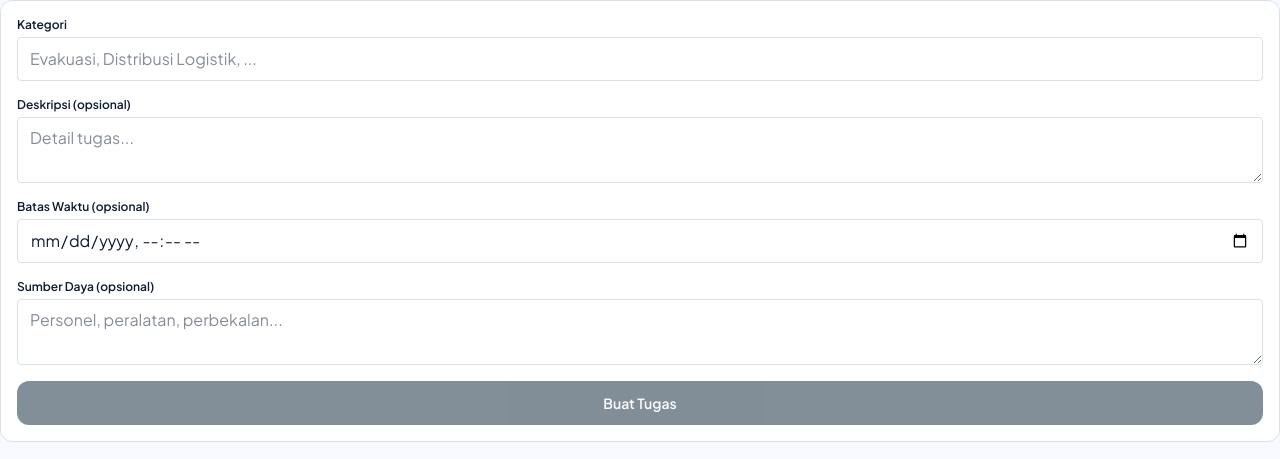
Test: CreateTaskForm › shows 'Membuat tugas...' and disables the button while the request is in flight
In the field with placeholder "Evakuasi, Distribusi Logistik, ...": point(640, 59) [17,37,1263,81], type "Evakuasi"
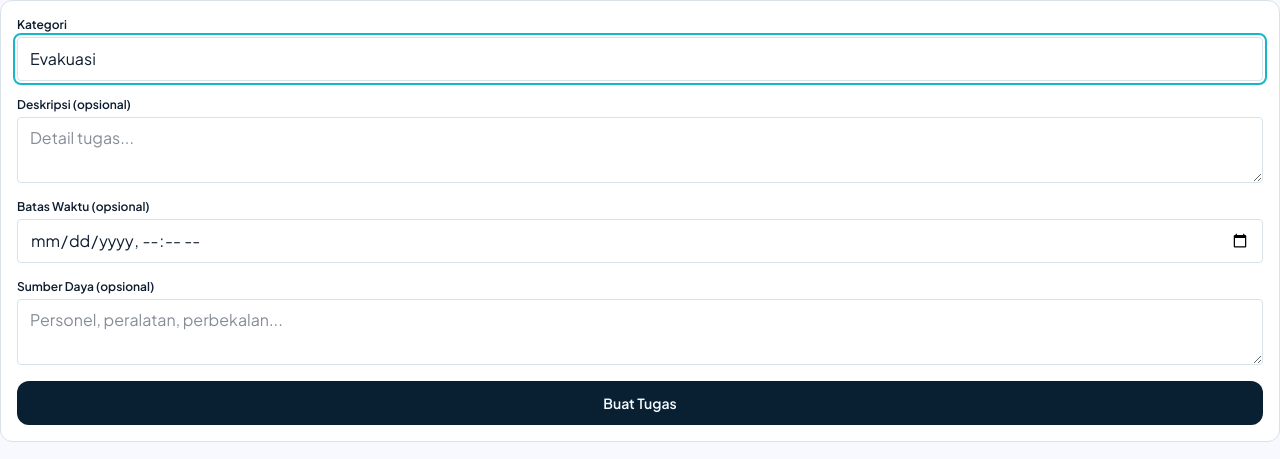
Click the button "Buat Tugas": point(640, 403) [17,381,1263,425]
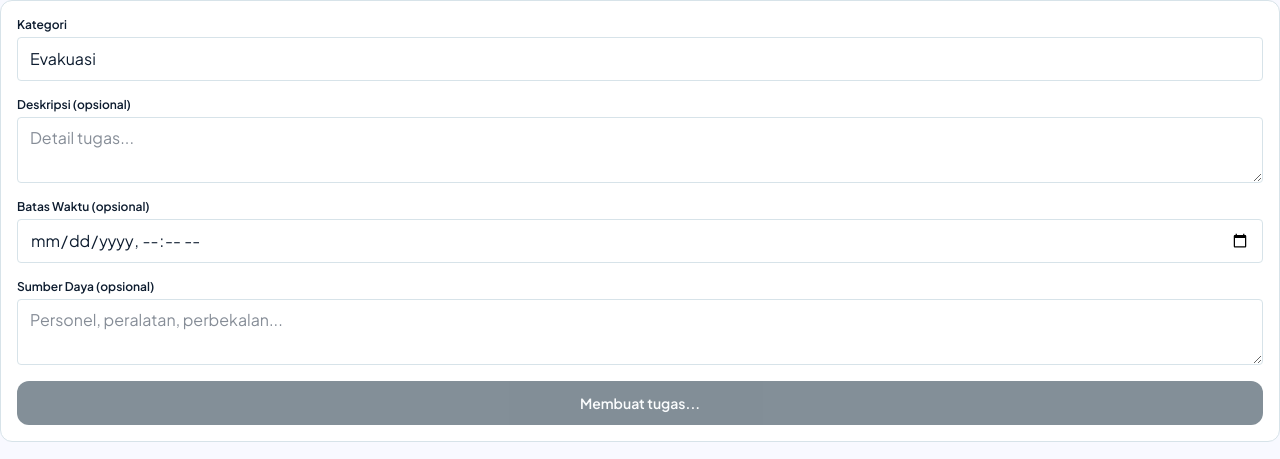
Expected: the button "Membuat tugas..." is disabled, [17,381,1263,425]
